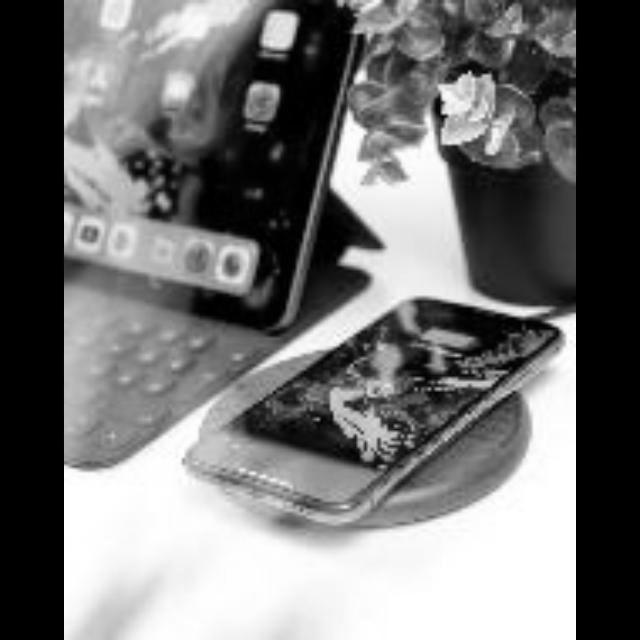fake: (226, 282, 562, 498)
